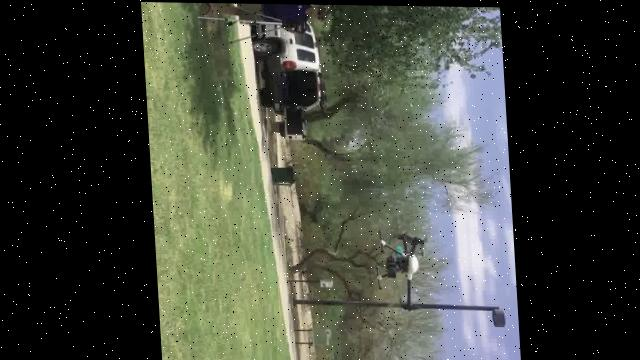drone: (368, 224, 429, 313)
